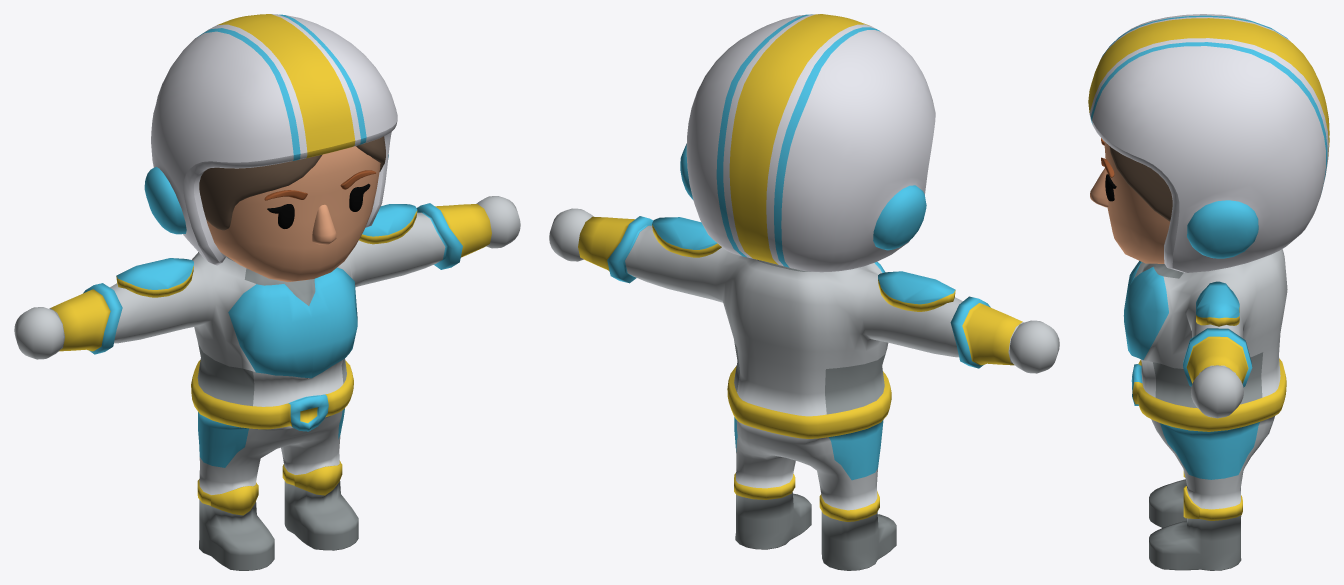
Rendered from 02_XANH_TRANG.fbx.
3 renders of one model, left to right at view 1: azimuth 30°, elevation 25°; view 2: azimuth 150°, elevation 25°; view 3: azimuth 270°, elevation 25°, orthographic.
Parts seen in each view (by area): view 1: BODY, HELMET, HEAD; view 2: BODY, HELMET; view 3: HELMET, BODY, HEAD.
Boxes of the visible parts, left/top/right/bottom form: BODY: left=14, top=196, right=520, bottom=570; HELMET: left=144, top=14, right=397, bottom=265; HEAD: left=199, top=136, right=385, bottom=282; BODY: left=549, top=208, right=1059, bottom=570; HELMET: left=680, top=14, right=935, bottom=272; HELMET: left=1088, top=14, right=1329, bottom=272; BODY: left=1123, top=249, right=1287, bottom=570; HEAD: left=1090, top=138, right=1172, bottom=263.
Bounding box in the file's own units: 191 × 186 × 79.51.
